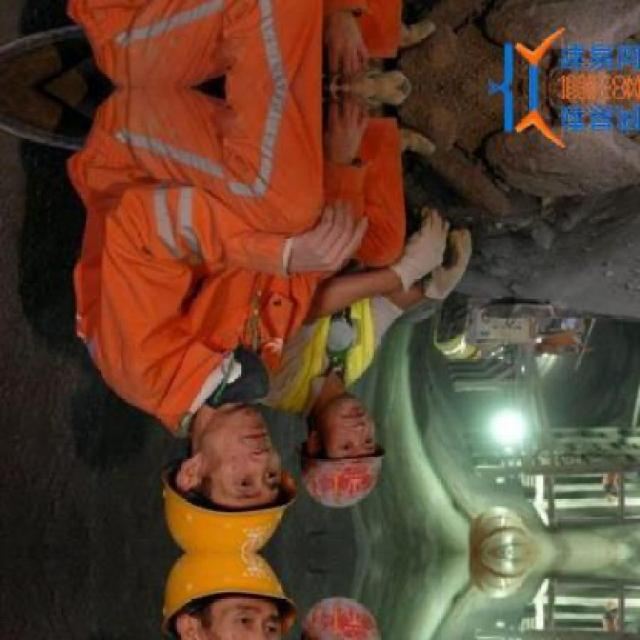con casco: (150, 368, 288, 560), (266, 384, 372, 516)
